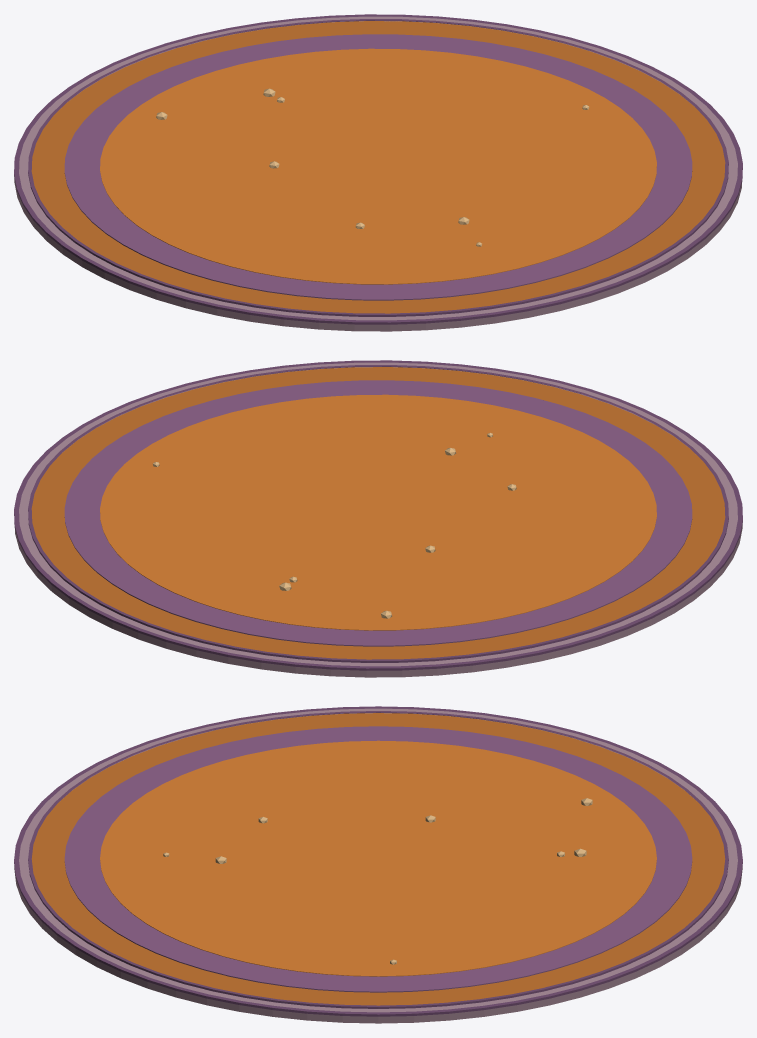
Rendered from goo_jar_foot@haunted.fbx.
The picture shows the model from 3 angles, top to bottom: view 1: azimuth 30°, elevation 25°; view 2: azimuth 150°, elevation 25°; view 3: azimuth 270°, elevation 25°; orthographic projection.
Visible parts, largest first — view 1: goo_jar_foot; view 2: goo_jar_foot; view 3: goo_jar_foot.
Boxes of the visible parts, x1,y1,x2,y2 form: goo_jar_foot: [14, 14, 742, 331]; goo_jar_foot: [14, 360, 742, 677]; goo_jar_foot: [14, 706, 742, 1023].
Size of the model in its own units: 80.1 by 2.08 by 80.1.
